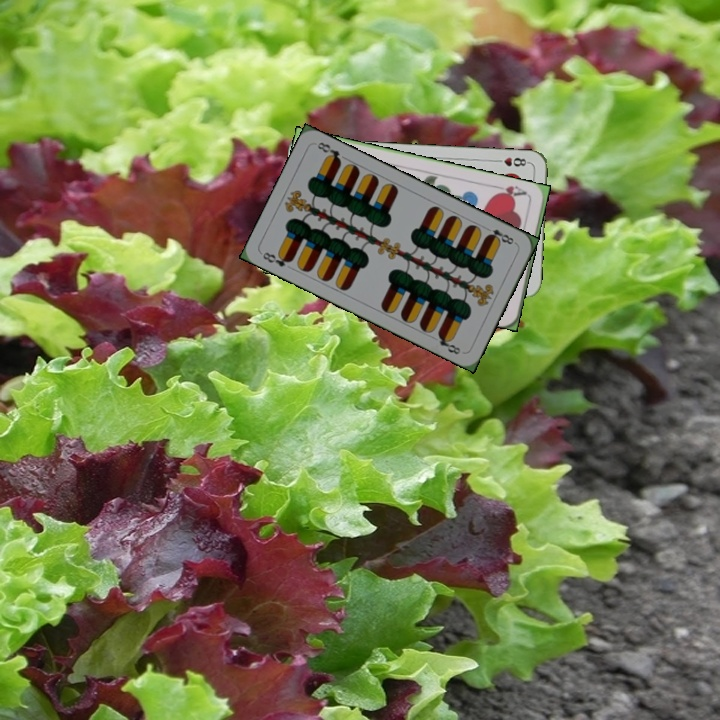E8: (481, 223, 519, 247), (258, 248, 295, 269)
H8: (491, 153, 532, 169)
HA: (491, 181, 531, 201)
